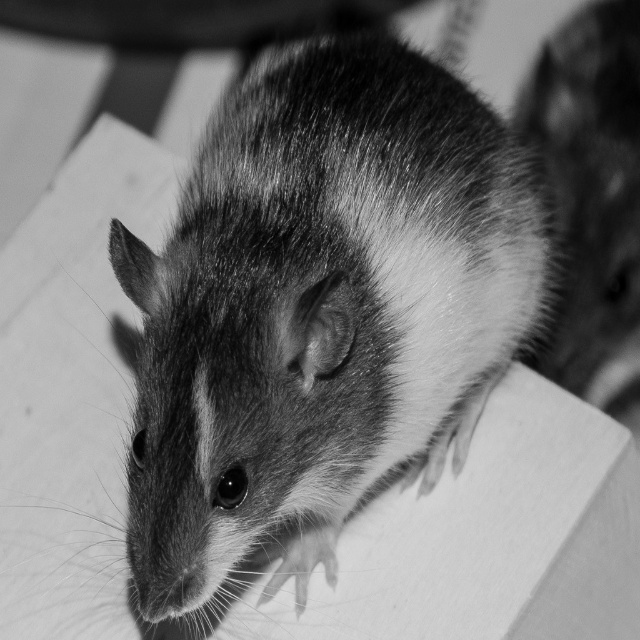Mouse: (4, 24, 580, 640)
